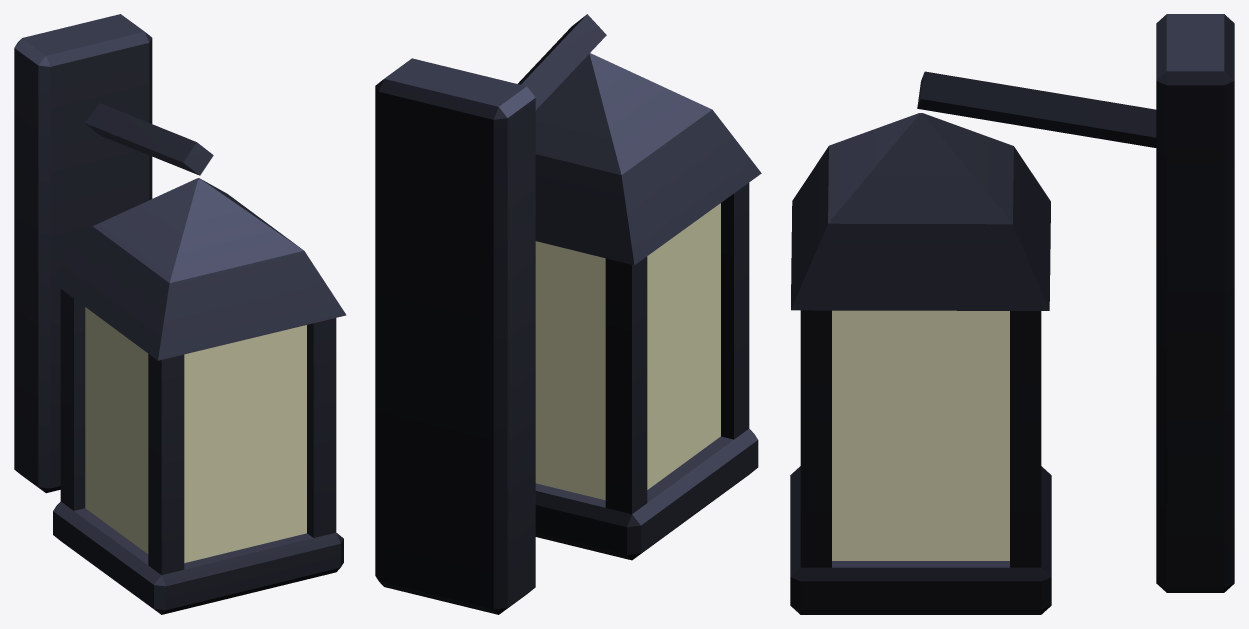
Rendered from wall_lantern.glb.
The picture shows the model from 3 angles, left to right: view 1: azimuth 30°, elevation 25°; view 2: azimuth 150°, elevation 25°; view 3: azimuth 270°, elevation 25°; orthographic projection. The views are drawn at different scales.
Parts seen in each view (by area): view 1: wall_lantern; view 2: wall_lantern; view 3: wall_lantern.
Part boxes in pixels (bbox=[...]): wall_lantern: bbox=[14, 14, 346, 614]; wall_lantern: bbox=[375, 14, 761, 614]; wall_lantern: bbox=[790, 14, 1234, 614].
Size of the model in its own units: 0.1 by 0.22 by 0.17.
